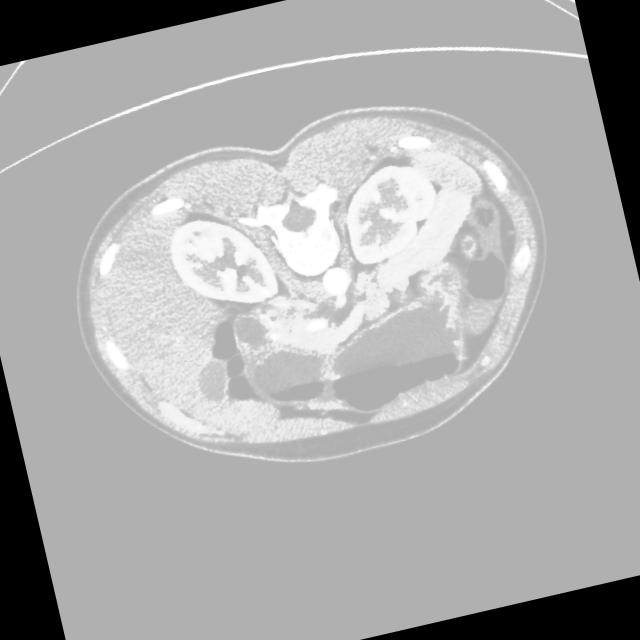NORMAL: (20, 41, 601, 538)
